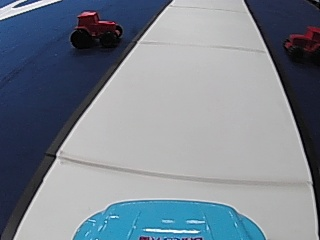tractor: (69, 8, 124, 49), (283, 22, 319, 64)
